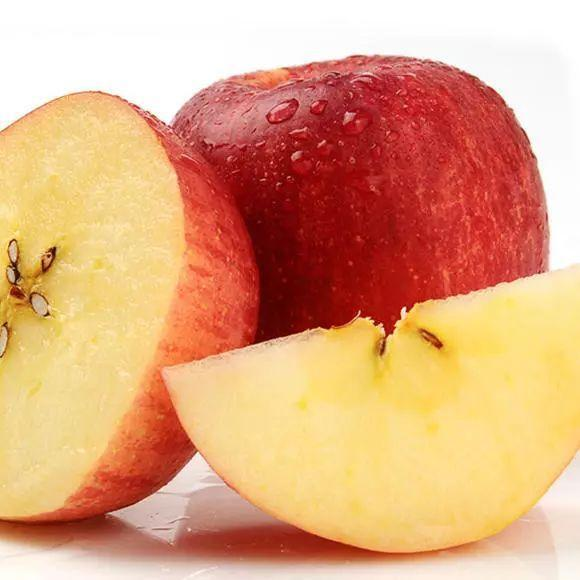apple: (159, 53, 554, 450)
